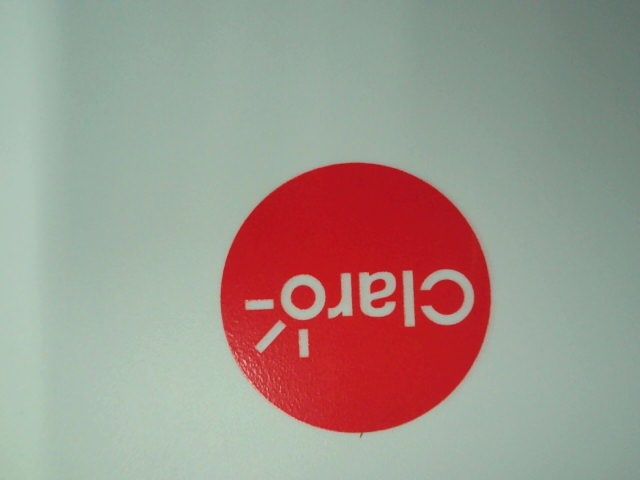BC_ClaorRed: (204, 155, 505, 436)
